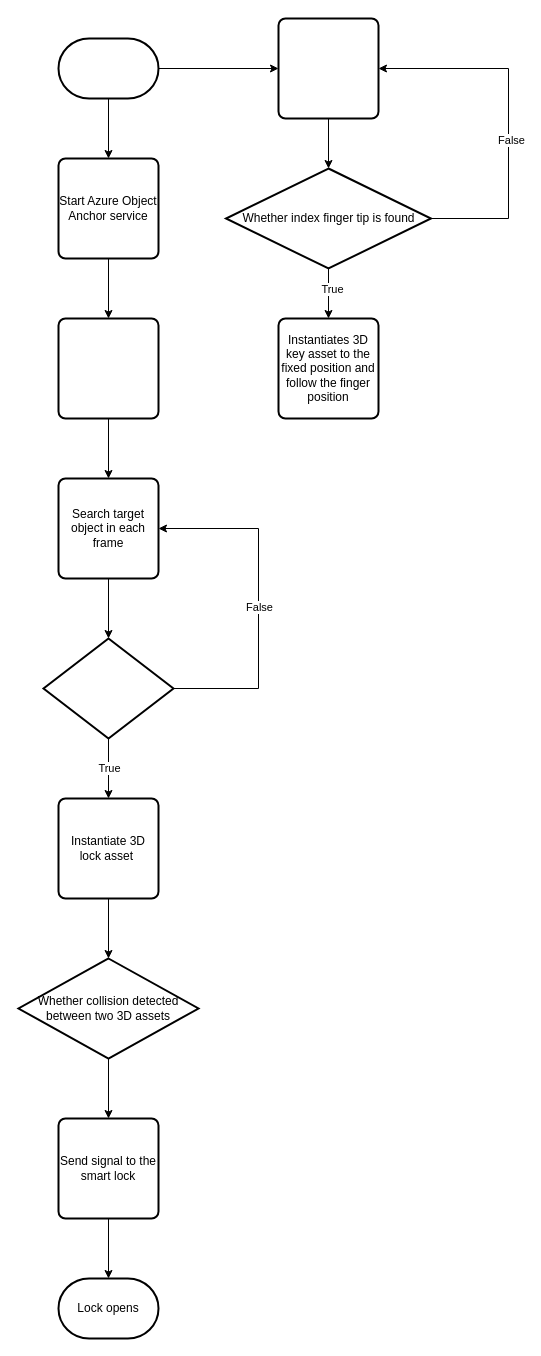
Image size: 541x1356. Some labels were removed from this diagram. Each missing label, with the box of its shape:
Define the search area: (57, 317, 159, 419)
Search index finger tip: (277, 17, 379, 119)
Startup the App: (57, 37, 159, 99)
Whether the target object is found: (42, 637, 174, 739)
